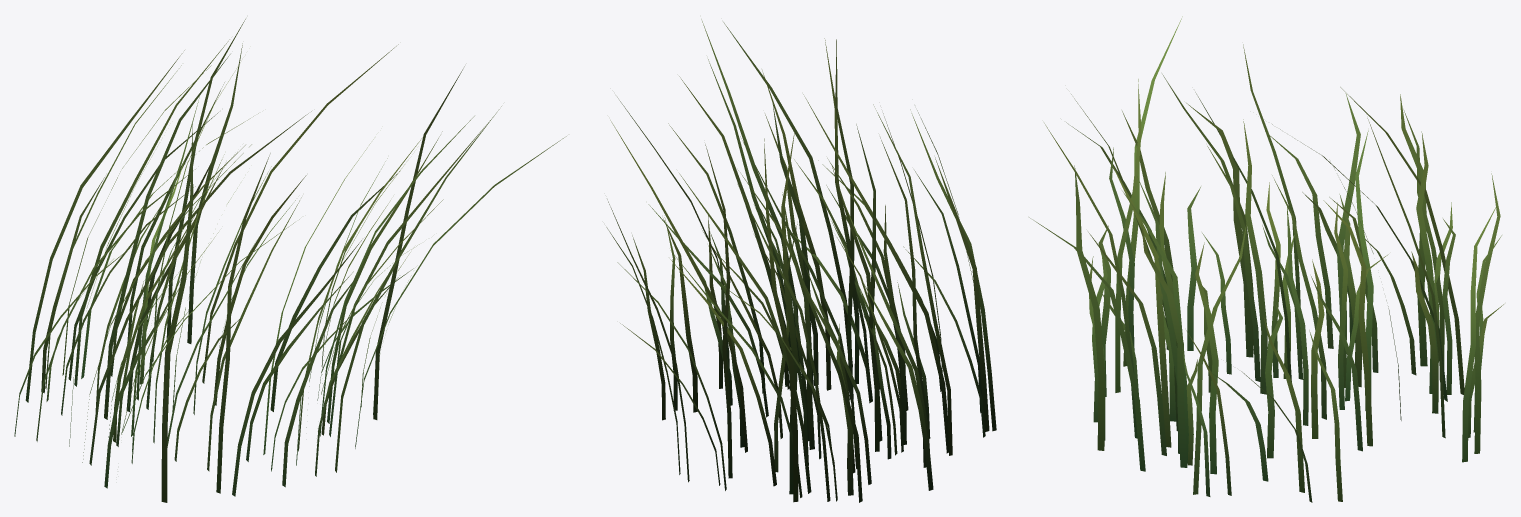
File: seagrass-a.lod0.glb
3 renders of one model, left to right at view 1: azimuth 30°, elevation 25°; view 2: azimuth 150°, elevation 25°; view 3: azimuth 270°, elevation 25°, orthographic. The views are drawn at different scales.
Visible parts, largest first — view 1: seagrass-a.lod0; view 2: seagrass-a.lod0; view 3: seagrass-a.lod0.
Part boxes in pixels (x1=…): seagrass-a.lod0: x1=14, y1=19, x2=566, y2=502; seagrass-a.lod0: x1=606, y1=19, x2=996, y2=502; seagrass-a.lod0: x1=1029, y1=16, x2=1503, y2=502.
Size of the model in its own units: 0.8508 by 0.7062 by 0.8013.
